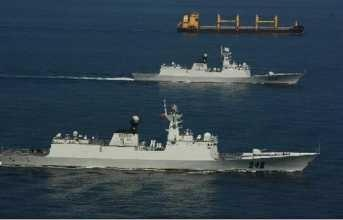otherboat: (176, 7, 304, 38)
warship: (17, 108, 314, 167), (125, 50, 313, 84)
